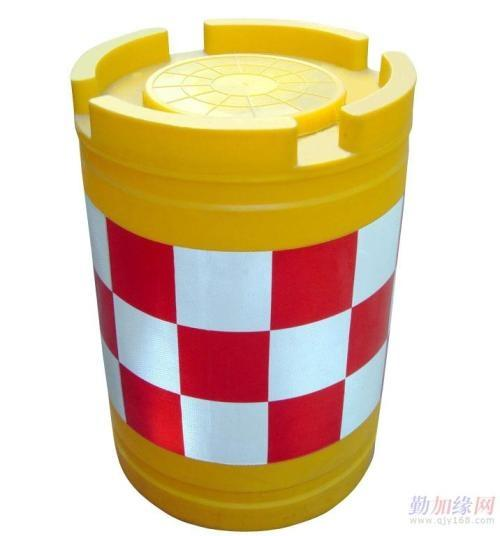cone_barrel: (72, 20, 413, 527)
